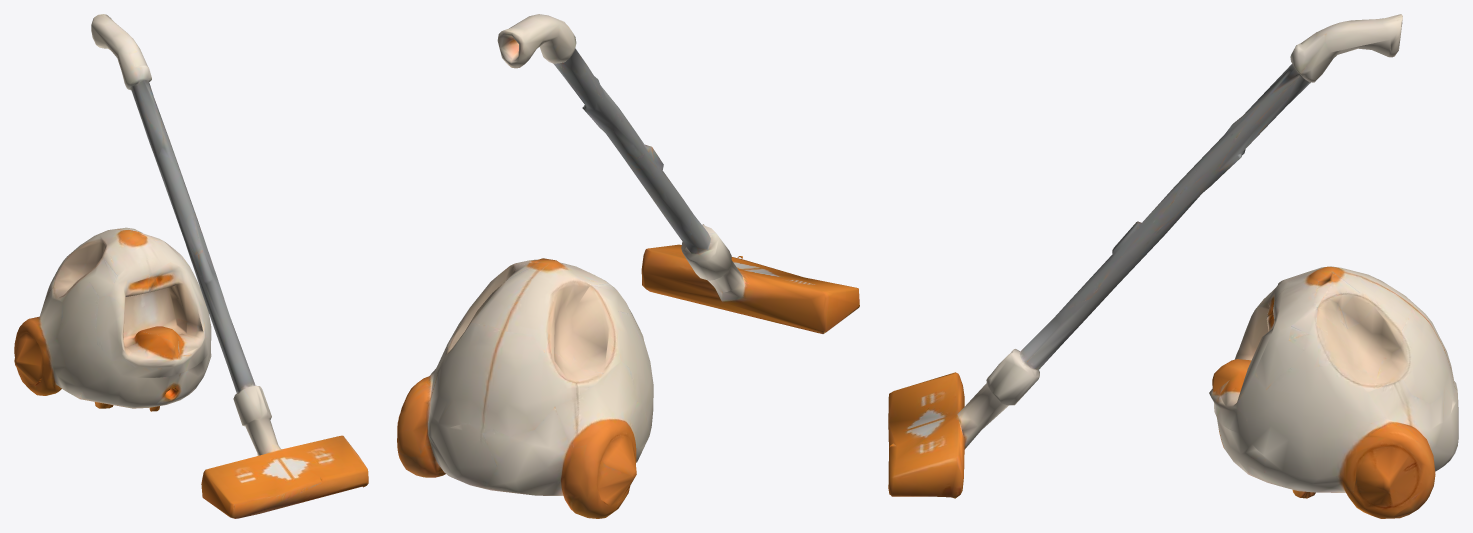
Rendered from vacuum.glb.
3 renders of one model, left to right at view 1: azimuth 30°, elevation 25°; view 2: azimuth 150°, elevation 25°; view 3: azimuth 270°, elevation 25°, orthographic. The views are drawn at different scales.
Size of the model in its own units: 0.9396 by 1.78 by 2.
1 material, 1 textured.
